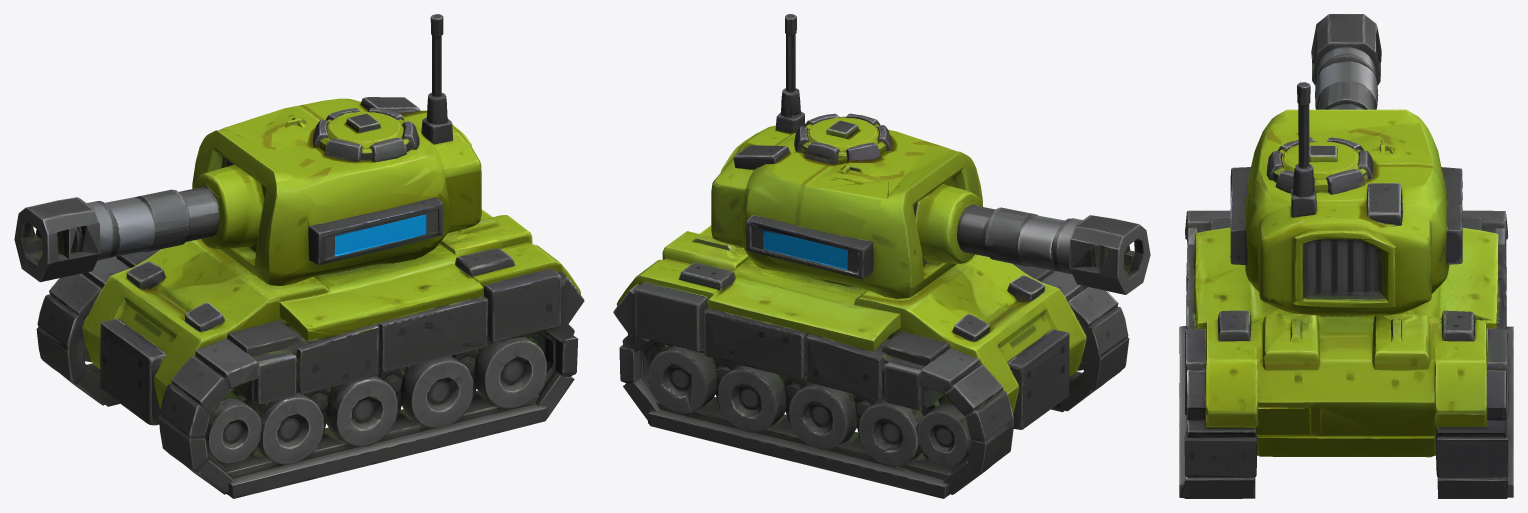
File: m08_medium_tank.glb
3 views of the same model, side by side, from view 1: azimuth 30°, elevation 25°; view 2: azimuth 150°, elevation 25°; view 3: azimuth 270°, elevation 25° (orthographic). The views are drawn at different scales.
Size of the model in its own units: 1.9 by 1.4 by 1.09.
1 material, 1 textured.
